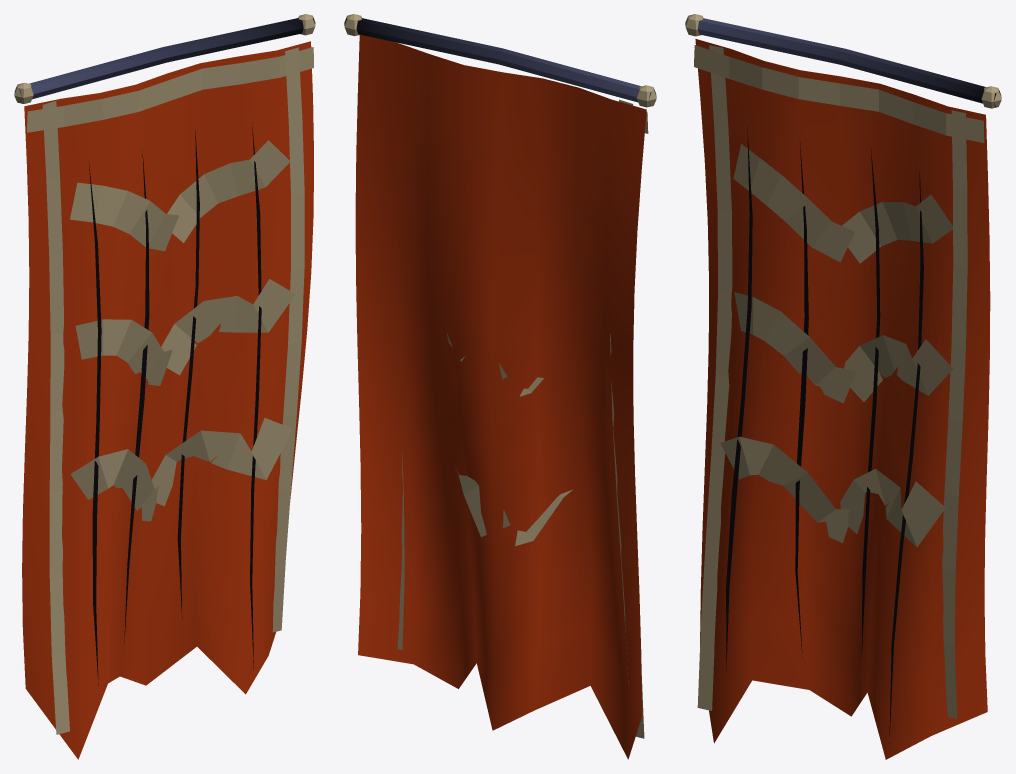
File: banner_patternA_red.glb
3 views of the same model, side by side, from view 1: azimuth 30°, elevation 25°; view 2: azimuth 150°, elevation 25°; view 3: azimuth 330°, elevation 25° (orthographic). The views are drawn at different scales.
Visible parts, largest first — view 1: banner_patternA_red.001; view 2: banner_patternA_red.001; view 3: banner_patternA_red.001.
Part boxes in pixels (bbox=[...]): banner_patternA_red.001: bbox=[14, 14, 315, 759]; banner_patternA_red.001: bbox=[344, 14, 656, 759]; banner_patternA_red.001: bbox=[685, 14, 1001, 759].
Size of the model in its own units: 1.5 by 3.2 by 0.31.
